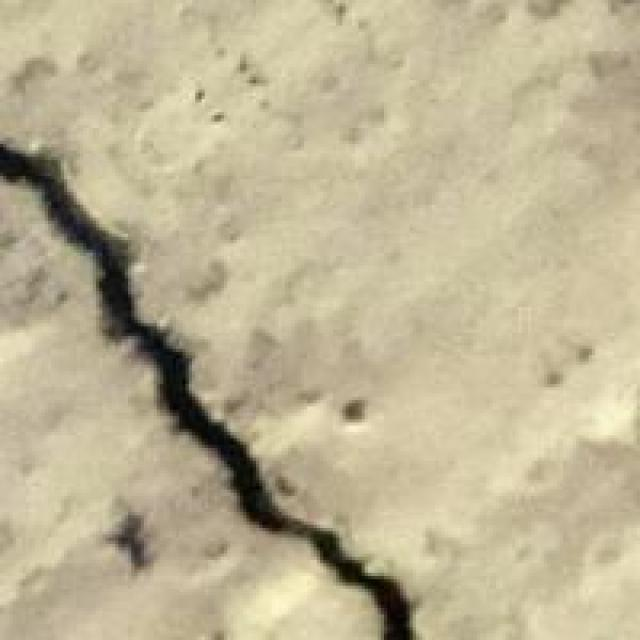Crack: (0, 115, 422, 636)
